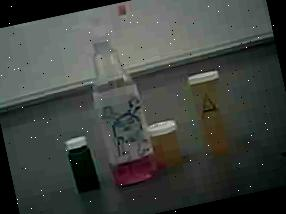Bottle A: (180, 63, 244, 162)
Bottle B: (140, 107, 194, 171)
Bottle C: (60, 130, 108, 198)
hazard: (72, 4, 162, 194)
